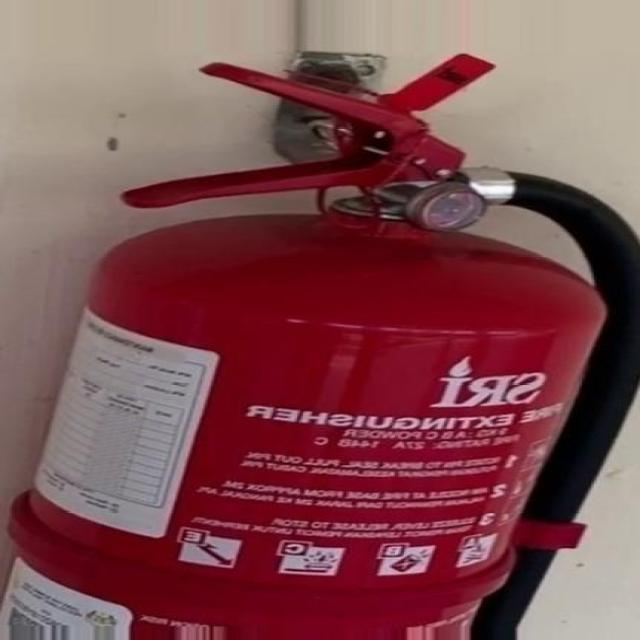fire_extinguisher: (0, 44, 639, 639)
